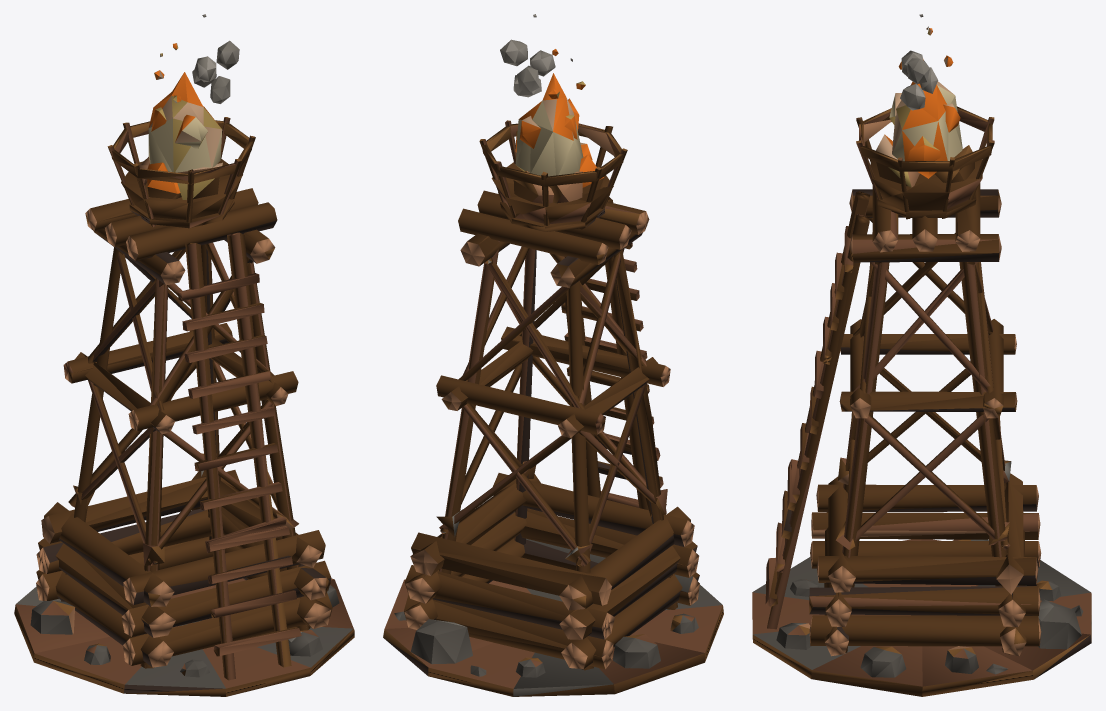
File: building.signal_pyre.glb
The picture shows the model from 3 angles, left to right: view 1: azimuth 30°, elevation 25°; view 2: azimuth 150°, elevation 25°; view 3: azimuth 270°, elevation 25°; orthographic projection.
Visible parts, largest first — view 1: asset; view 2: asset; view 3: asset.
Part boxes in pixels (bbox=[...]): asset: bbox=[14, 14, 354, 696]; asset: bbox=[383, 14, 723, 696]; asset: bbox=[752, 14, 1091, 696].
Size of the model in its own units: 1.56 by 3 by 1.5.
